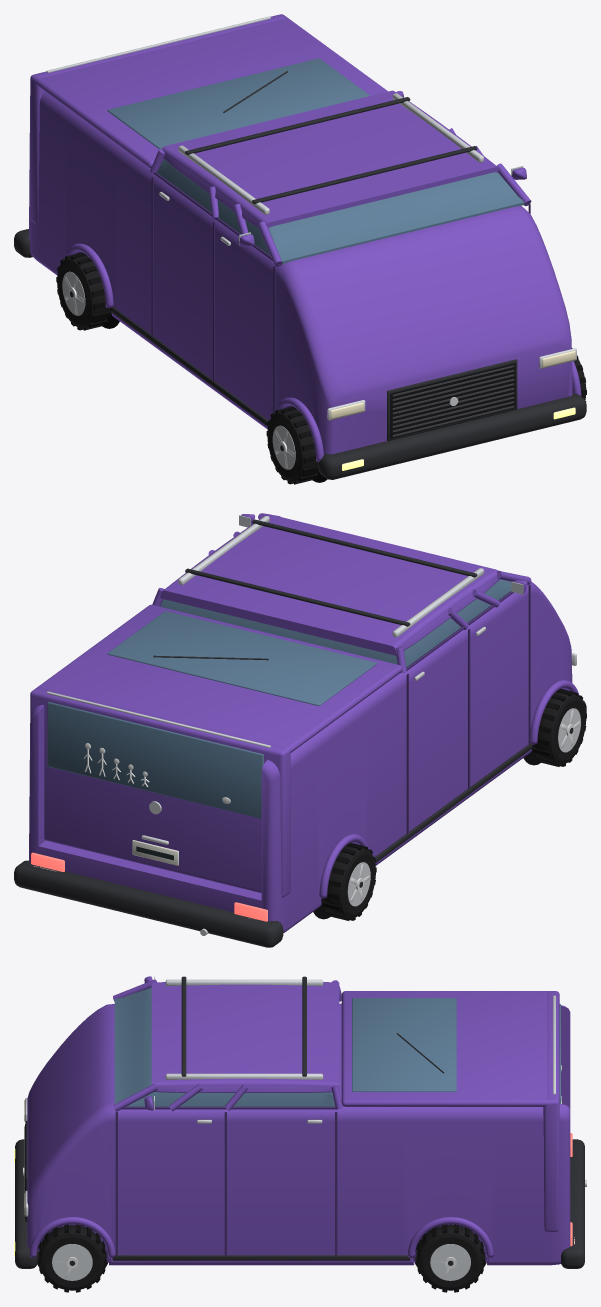
Rendered from festival.fbx.
The picture shows the model from 3 angles, top to bottom: view 1: azimuth 30°, elevation 25°; view 2: azimuth 150°, elevation 25°; view 3: azimuth 270°, elevation 25°; orthographic projection. The views are drawn at different scales.
Parts seen in each view (by area): view 1: Body, Lid, Wheel_1, Wheel_3, LidFlap; view 2: Body, LidFlap, Lid, Wheel_3, Wheel_1; view 3: Body, Lid, Wheel_2, Wheel_0, LidFlap.
Boxes of the visible parts, x1=… form: Body: x1=14, y1=90, x2=586, y2=482; Lid: x1=30, y1=14, x2=388, y2=168; Wheel_1: x1=56, y1=252, x2=110, y2=330; Wheel_3: x1=266, y1=406, x2=318, y2=484; LidFlap: x1=30, y1=14, x2=286, y2=224; Body: x1=14, y1=513, x2=586, y2=947; LidFlap: x1=30, y1=687, x2=290, y2=897; Lid: x1=30, y1=604, x2=402, y2=756; Wheel_3: x1=532, y1=689, x2=586, y2=766; Wheel_1: x1=322, y1=843, x2=376, y2=920; Body: x1=14, y1=976, x2=586, y2=1268; Lid: x1=341, y1=991, x2=559, y2=1106; Wheel_2: x1=38, y1=1224, x2=106, y2=1292; Wheel_0: x1=416, y1=1224, x2=484, y2=1292; LidFlap: x1=543, y1=991, x2=561, y2=1231.
Size of the model in its own units: 6.5 by 4.98 by 12.36.
